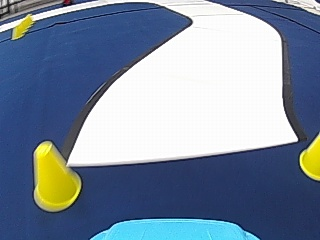cone: (31, 140, 81, 211), (298, 133, 319, 179)
